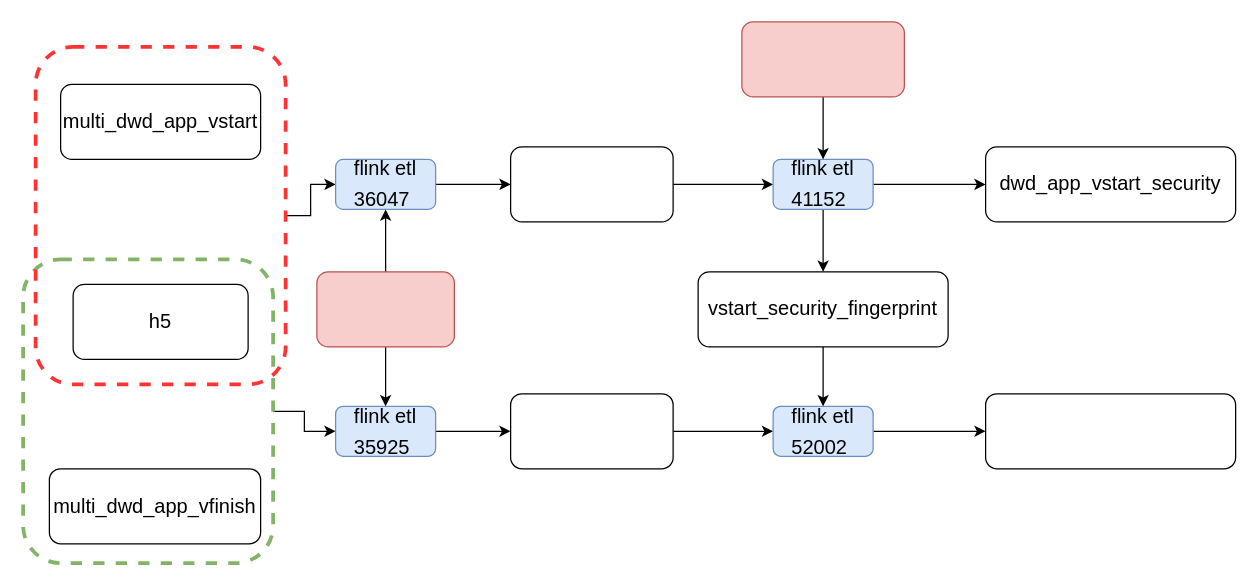
Some shapes in this 1258 by 586 pixel diagram are drawn without their labels. The shapes that lost their labels are listed below. From the top down, each one's centre as x and y in pixels, then its label:
At pixel 822 59: "OVB反作弊接口".
At pixel 591 184: "dwd_app_vstart".
At pixel 385 309: "媒资接口".
At pixel 591 430: "dwd_app_vfinish".
At pixel 1110 430: "dwd_app_vfinish_security".
